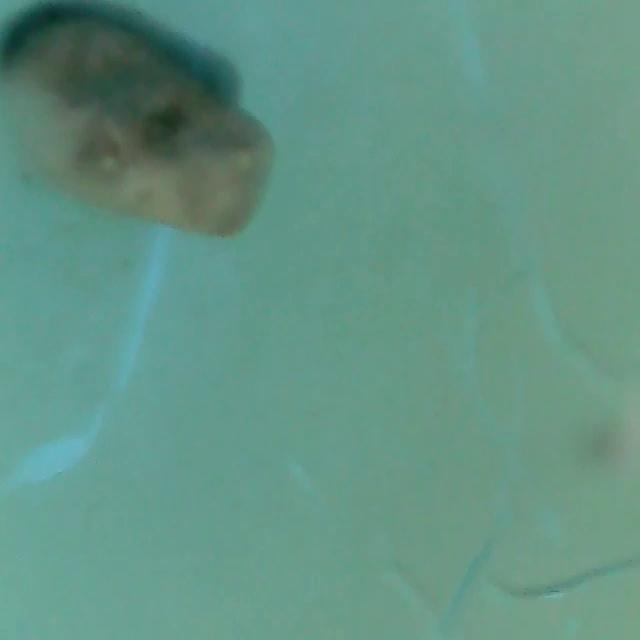rock: (2, 14, 277, 246)
